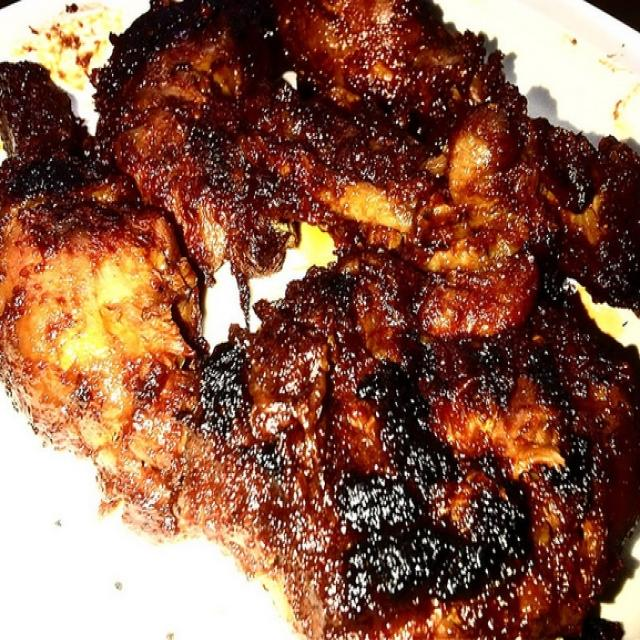鸡肉料理 含炸鸡: (15, 13, 628, 621)
